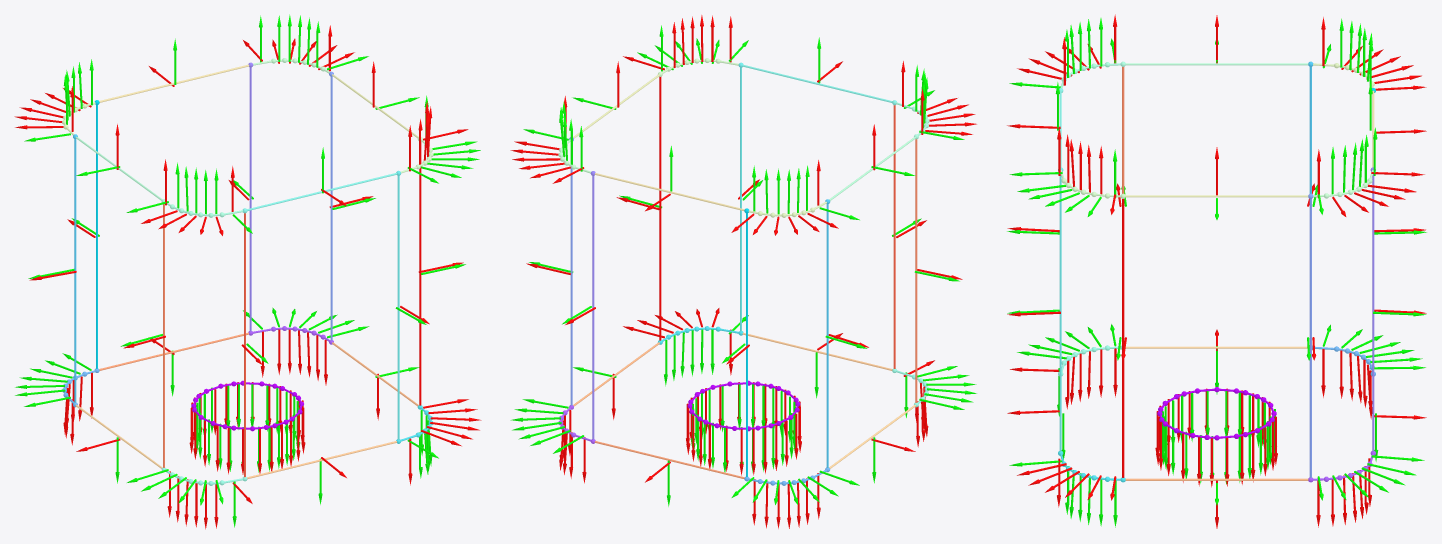
The model's file is onshape_simple_shape.gltf.
The picture shows the model from 3 angles, left to right: view 1: azimuth 30°, elevation 25°; view 2: azimuth 150°, elevation 25°; view 3: azimuth 270°, elevation 25°; orthographic projection. The views are drawn at different scales.
Bounding box in the file's own units: 0.7776 × 0.7776 × 0.7776.
